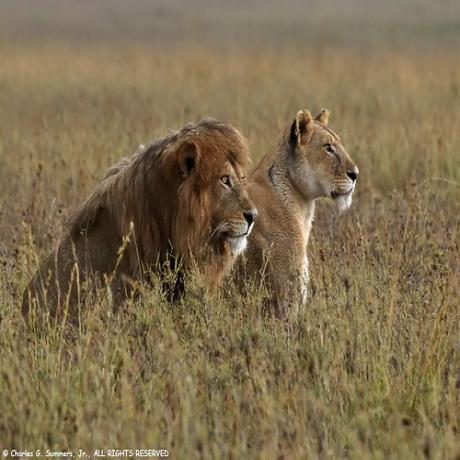Lion: (23, 118, 257, 312), (249, 105, 360, 320)
